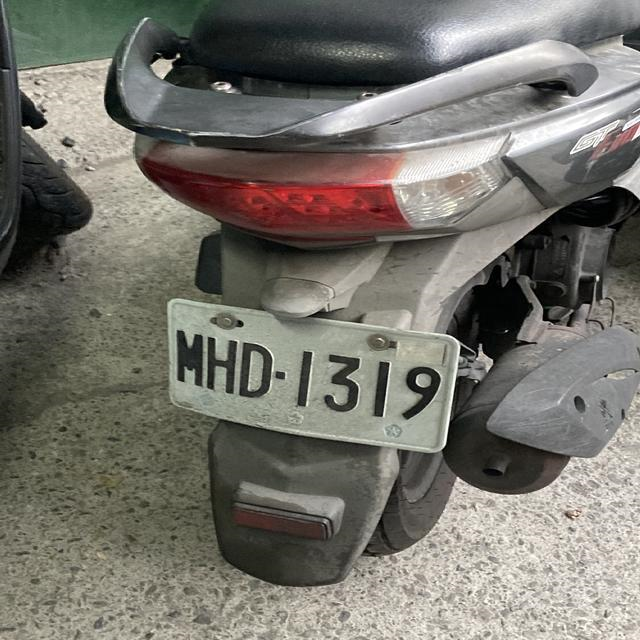license: (168, 321, 446, 434)
